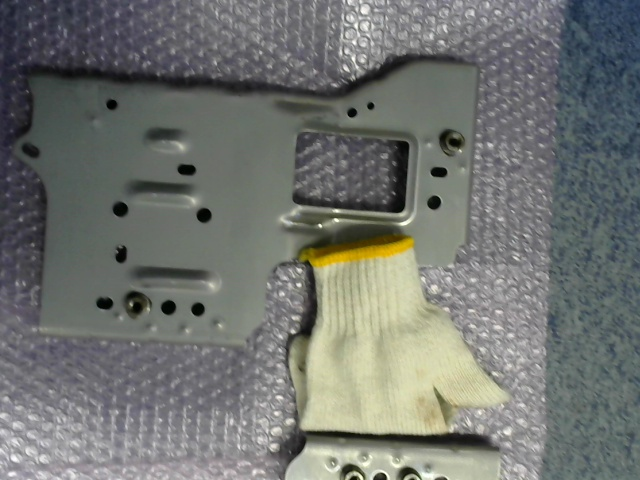dog: (124, 291, 152, 319), (439, 128, 466, 157)
